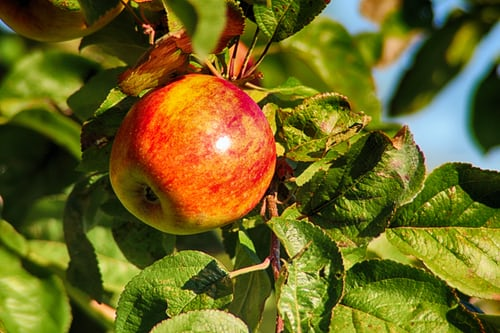apple: (107, 71, 280, 236)
